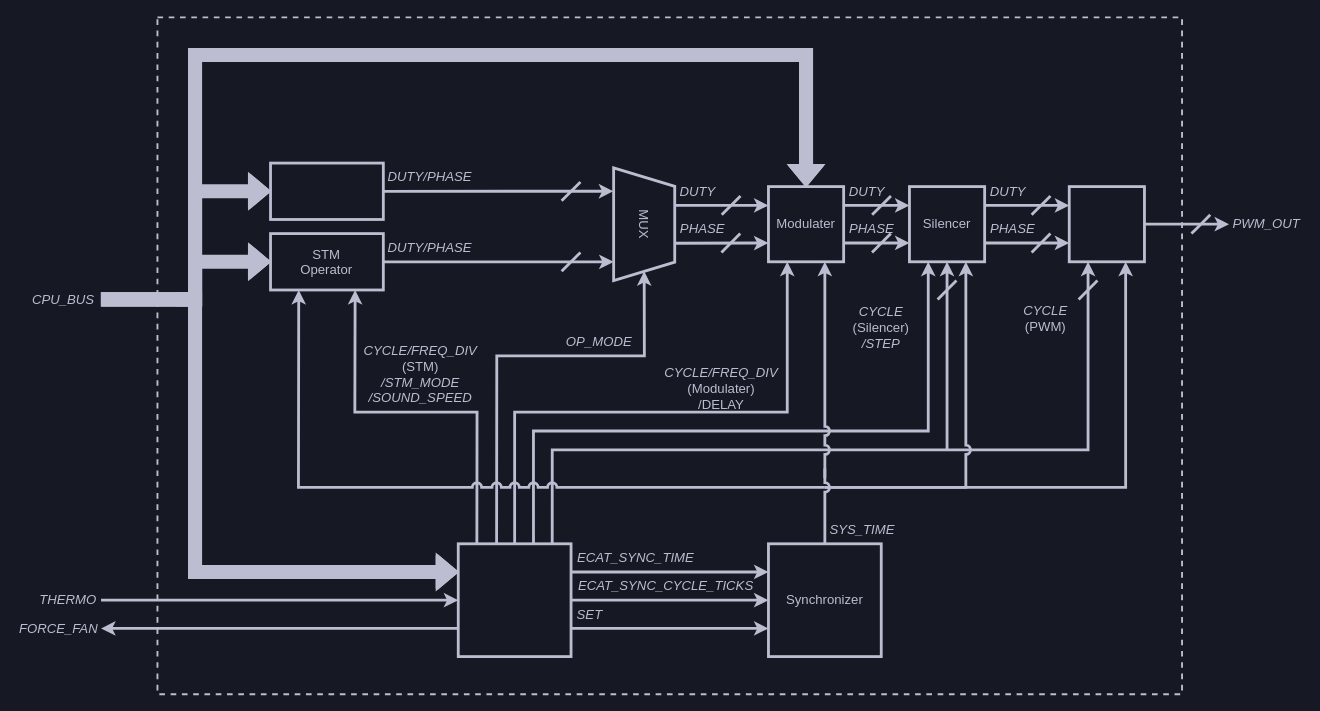
This 1320x711 diagram has some shape labels left out. The shapes that lost their labels are listed below. From the top down, each one's centre as x and y in pixels, then its label:
At (326,190): "Normal Operator".
At (1106,224): "PWM".
At (514,600): "Controller".
